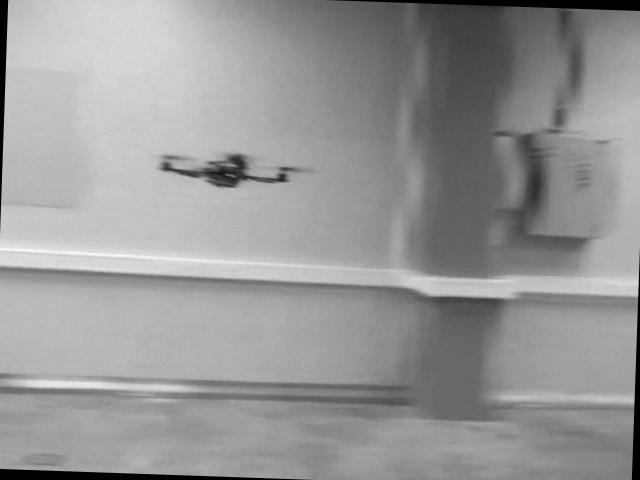drone: (152, 144, 308, 192)
